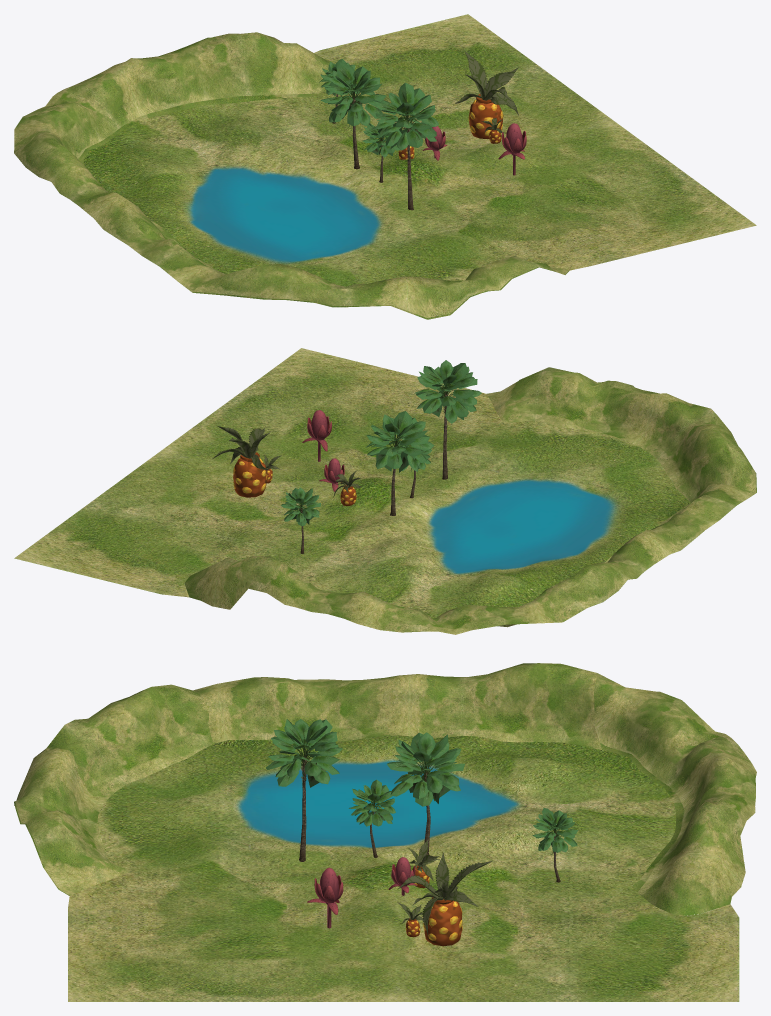
The picture shows the model from 3 angles, top to bottom: view 1: azimuth 30°, elevation 25°; view 2: azimuth 150°, elevation 25°; view 3: azimuth 270°, elevation 25°; orthographic projection. The views are drawn at different scales.
Parts seen in each view (by area): view 1: Landscape, Palmtree_1, Palmtree_4, Xerophyte_1, Palmtree_2, PurplePlant_1; view 2: Landscape, Palmtree_1, Palmtree_4, Xerophyte_1, Palmtree_3, PurplePlant_1, Xerophyte_3; view 3: Landscape, Palmtree_1, Palmtree_4, Xerophyte_1, Palmtree_2, Palmtree_3, PurplePlant_1, Xerophyte_3, PurplePlant_2.
Part boxes in pixels (box(x1,y1,x2,y2)): Landscape: box(14, 14, 756, 319); Palmtree_1: box(372, 82, 438, 210); Palmtree_4: box(321, 62, 386, 169); Xerophyte_1: box(455, 51, 518, 138); Palmtree_2: box(362, 121, 399, 182); PurplePlant_1: box(498, 123, 526, 175); Landscape: box(14, 348, 756, 634); Palmtree_1: box(414, 360, 481, 479); Palmtree_4: box(365, 411, 434, 515); Xerophyte_1: box(212, 426, 270, 497); Palmtree_3: box(281, 487, 320, 553); PurplePlant_1: box(302, 410, 331, 461); Xerophyte_3: box(333, 470, 361, 505); Landscape: box(14, 663, 756, 1001); Palmtree_1: box(266, 719, 342, 861); Palmtree_4: box(387, 732, 464, 854); Xerophyte_1: box(398, 853, 492, 946); Palmtree_2: box(349, 779, 395, 857); Palmtree_3: box(532, 808, 577, 882); PurplePlant_1: box(307, 867, 343, 928); Xerophyte_3: box(408, 839, 439, 887); PurplePlant_2: box(388, 857, 416, 895).
Size of the model in its own units: 3315 by 768 by 3541.
